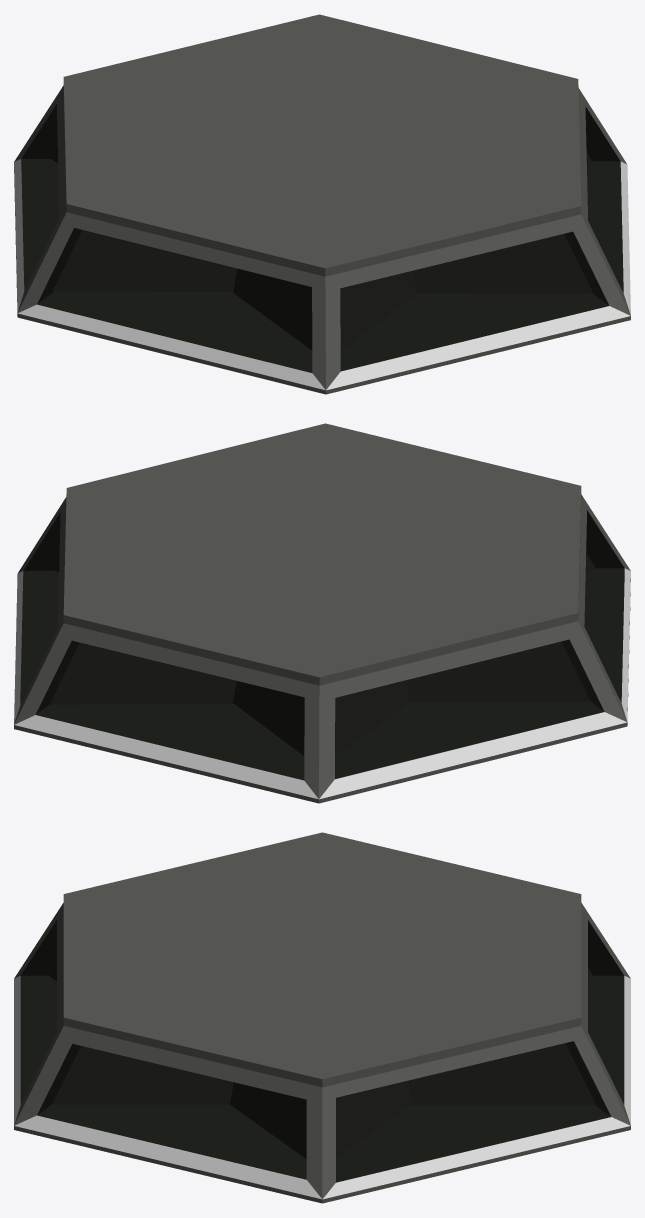
File: AssemblerGround1.fbx
The picture shows the model from 3 angles, top to bottom: view 1: azimuth 30°, elevation 25°; view 2: azimuth 150°, elevation 25°; view 3: azimuth 270°, elevation 25°; orthographic projection.
Parts seen in each view (by area): view 1: AssemblerGround1; view 2: AssemblerGround1; view 3: AssemblerGround1.
Boxes of the visible parts, left/top/right/bottom form: AssemblerGround1: left=14, top=14, right=630, bottom=394; AssemblerGround1: left=14, top=423, right=630, bottom=803; AssemblerGround1: left=14, top=832, right=630, bottom=1203.
Size of the model in its own units: 139 by 22.09 by 123.
